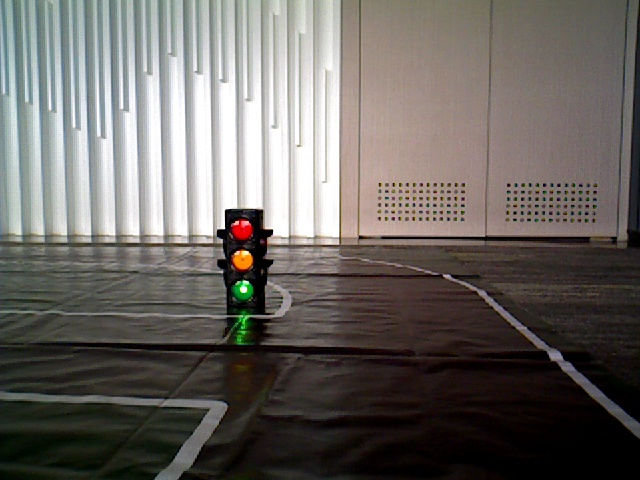green: (226, 210, 260, 305)
